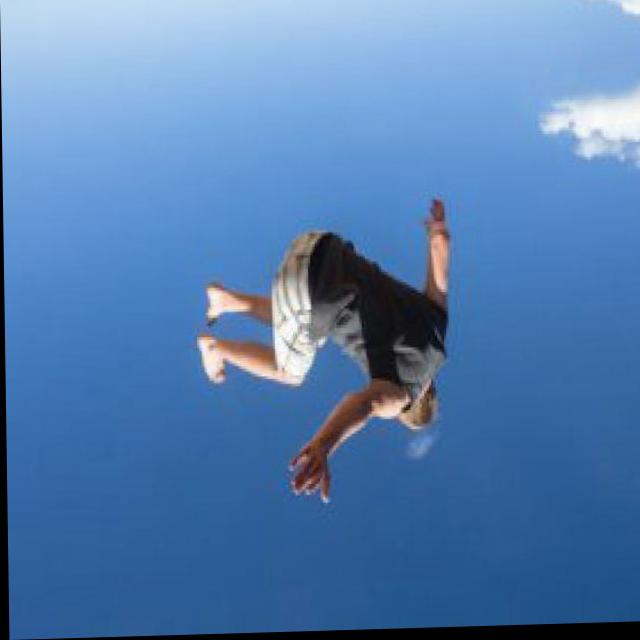fall: (177, 195, 470, 515)
